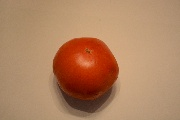tomato: (52, 37, 120, 102)
